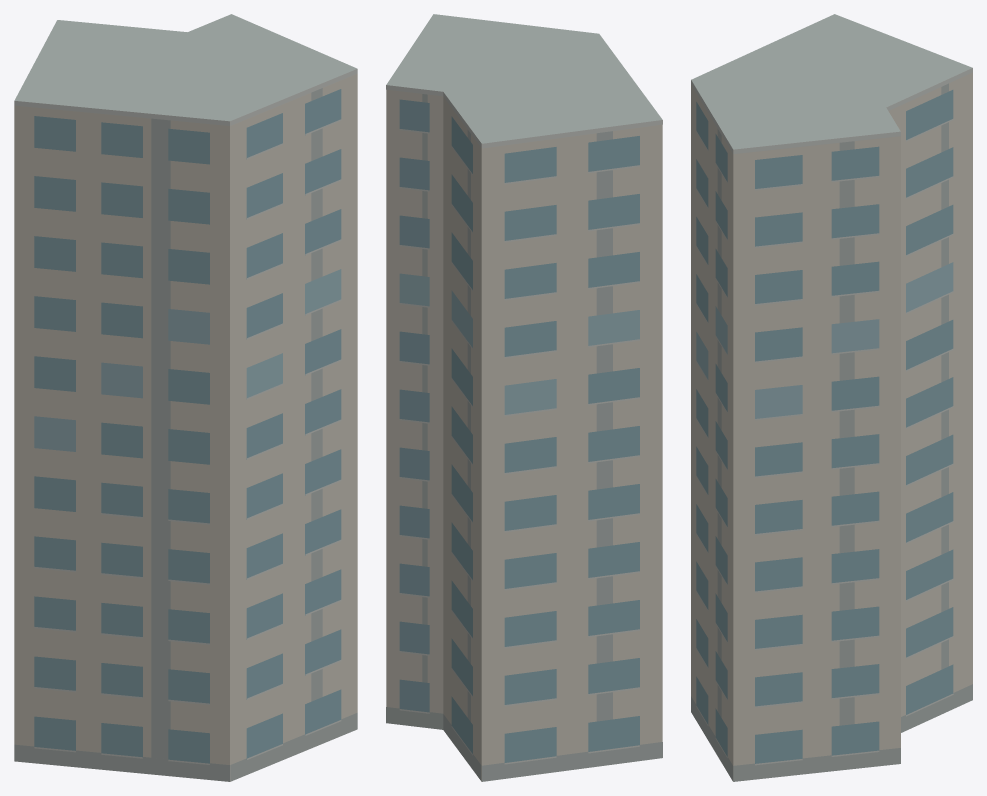
Rendered from residential-edd67d0d-5865-4969-a650-17f41909bdbe.glb.
3 views of the same model, side by side, from view 1: azimuth 30°, elevation 25°; view 2: azimuth 150°, elevation 25°; view 3: azimuth 270°, elevation 25° (orthographic). The views are drawn at different scales.
Visible parts, largest first — view 1: residential-edd67d0d-5865-4969-a650-17f41909bdbe.tmp; view 2: residential-edd67d0d-5865-4969-a650-17f41909bdbe.tmp; view 3: residential-edd67d0d-5865-4969-a650-17f41909bdbe.tmp.
Boxes of the visible parts, bbox=[...] form: residential-edd67d0d-5865-4969-a650-17f41909bdbe.tmp: bbox=[14, 14, 357, 781]; residential-edd67d0d-5865-4969-a650-17f41909bdbe.tmp: bbox=[386, 14, 662, 781]; residential-edd67d0d-5865-4969-a650-17f41909bdbe.tmp: bbox=[691, 14, 972, 781].
Bounding box in the file's own units: 15.44 × 33.55 × 13.56.
